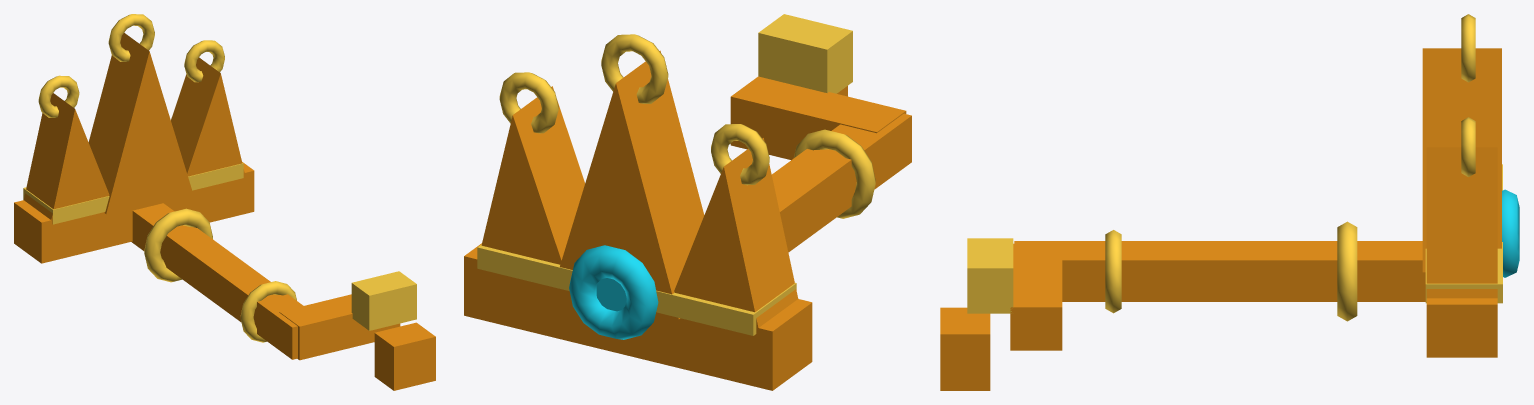
File: crown_gate_key.obj
3 renders of one model, left to right at view 1: azimuth 30°, elevation 25°; view 2: azimuth 150°, elevation 25°; view 3: azimuth 270°, elevation 25°, orthographic. The views are drawn at different scales.
Parts seen in each view (by area): view 1: crown_gate_key; view 2: crown_gate_key; view 3: crown_gate_key.
Boxes of the visible parts, x1,y1,x2,y2 form: crown_gate_key: (14, 14, 435, 390); crown_gate_key: (464, 14, 911, 390); crown_gate_key: (940, 14, 1519, 390).
Size of the model in its own units: 1.52 by 1.65 by 2.78.
